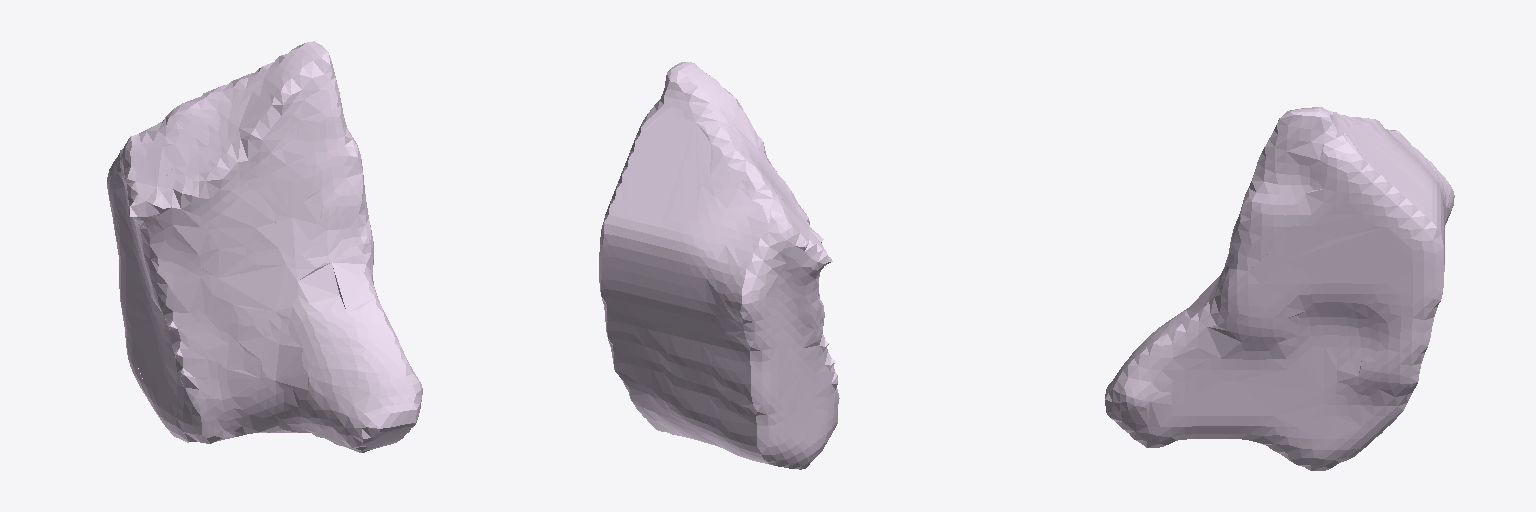
Rendered from Model_10060_LH__Area_24d_of_cortex_(A24d).obj.
3 views of the same model, side by side, from view 1: azimuth 30°, elevation 25°; view 2: azimuth 150°, elevation 25°; view 3: azimuth 270°, elevation 25° (orthographic).
Bounding box in the file's own units: 1.74 × 3.18 × 2.77.